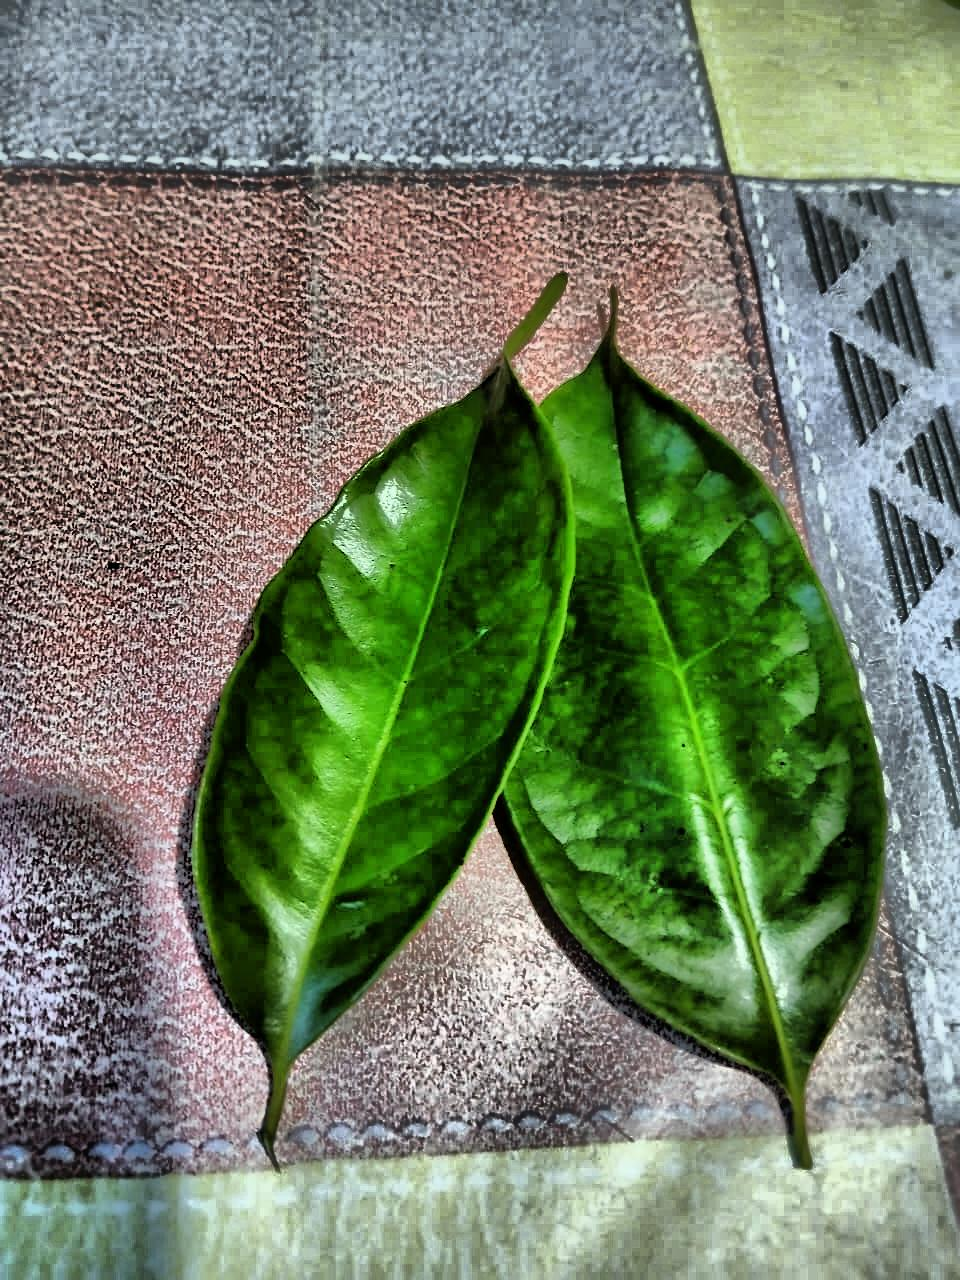daun salam: (195, 276, 883, 1166), (674, 683, 688, 734)
